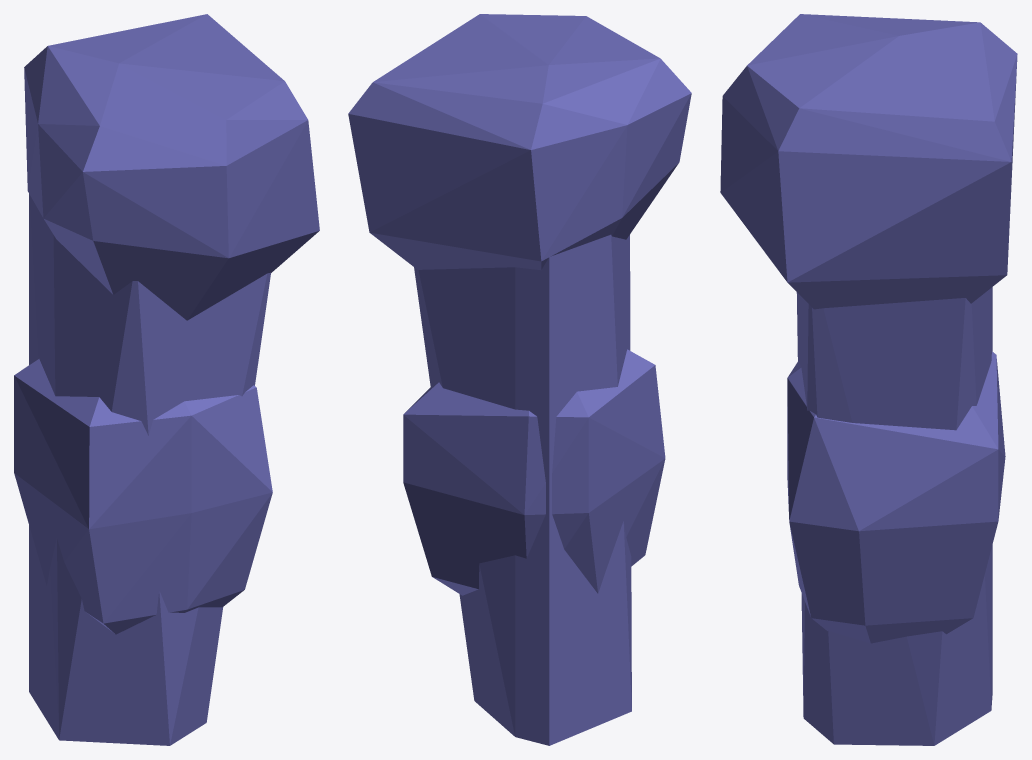
Rendered from Cliff_Spire_09_Collider_01.FBX.
The picture shows the model from 3 angles, left to right: view 1: azimuth 30°, elevation 25°; view 2: azimuth 150°, elevation 25°; view 3: azimuth 270°, elevation 25°; orthographic projection. The views are drawn at different scales.
Visible parts, largest first — view 1: COLLIDER1, COLLIDER2, COLLIDER3; view 2: COLLIDER1, COLLIDER2, COLLIDER3; view 3: COLLIDER1, COLLIDER3, COLLIDER2.
Boxes of the visible parts, box(x1,y1,x2,y2) form: COLLIDER1: box(24, 14, 319, 320); COLLIDER2: box(29, 192, 270, 745); COLLIDER3: box(14, 359, 272, 634); COLLIDER1: box(348, 14, 691, 270); COLLIDER2: box(414, 234, 631, 745); COLLIDER3: box(403, 349, 665, 595); COLLIDER1: box(720, 14, 1017, 309); COLLIDER3: box(787, 351, 1005, 643); COLLIDER2: box(796, 287, 992, 745).
Bounding box in the file's own units: 217 × 559 × 221.
